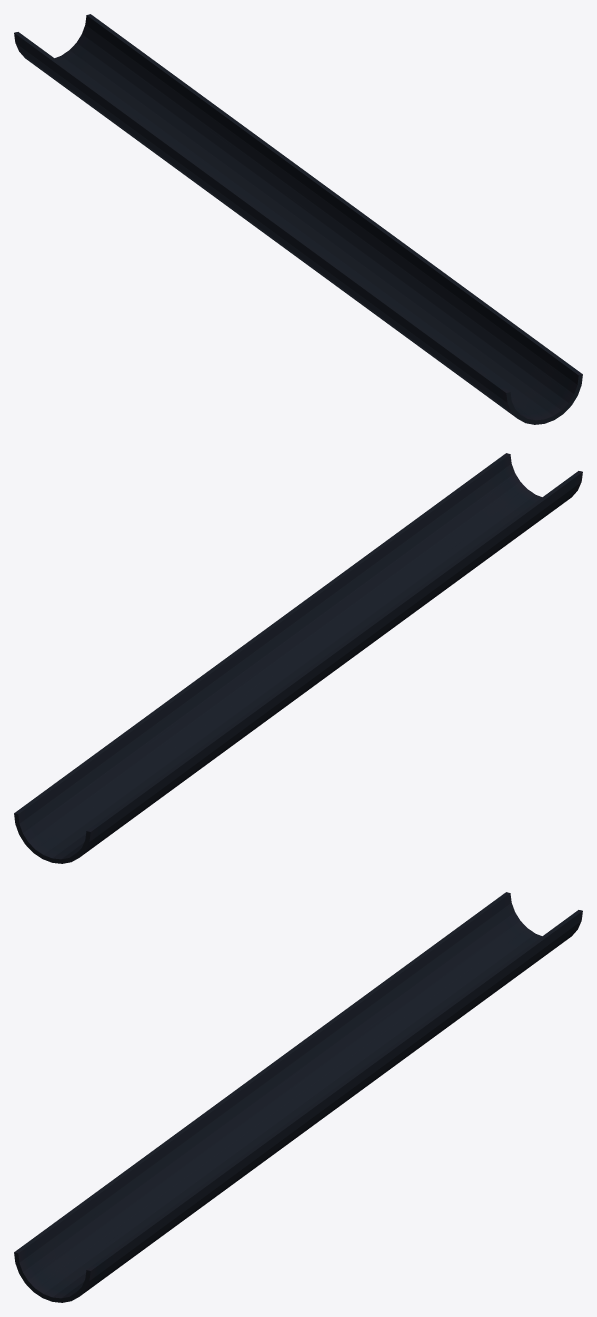
Rendered from gutter_segment.glb.
3 views of the same model, one above another, from view 1: azimuth 30°, elevation 25°; view 2: azimuth 150°, elevation 25°; view 3: azimuth 330°, elevation 25° (orthographic).
Visible parts, largest first — view 1: arcade_gutter_segment; view 2: arcade_gutter_segment; view 3: arcade_gutter_segment.
Boxes of the visible parts, left/top/right/bottom form: arcade_gutter_segment: left=14, top=14, right=582, bottom=424; arcade_gutter_segment: left=14, top=453, right=582, bottom=863; arcade_gutter_segment: left=14, top=892, right=582, bottom=1302.
Size of the model in its own units: 0.27 by 0.135 by 3.
Materials: 1 (1 with a texture image).
